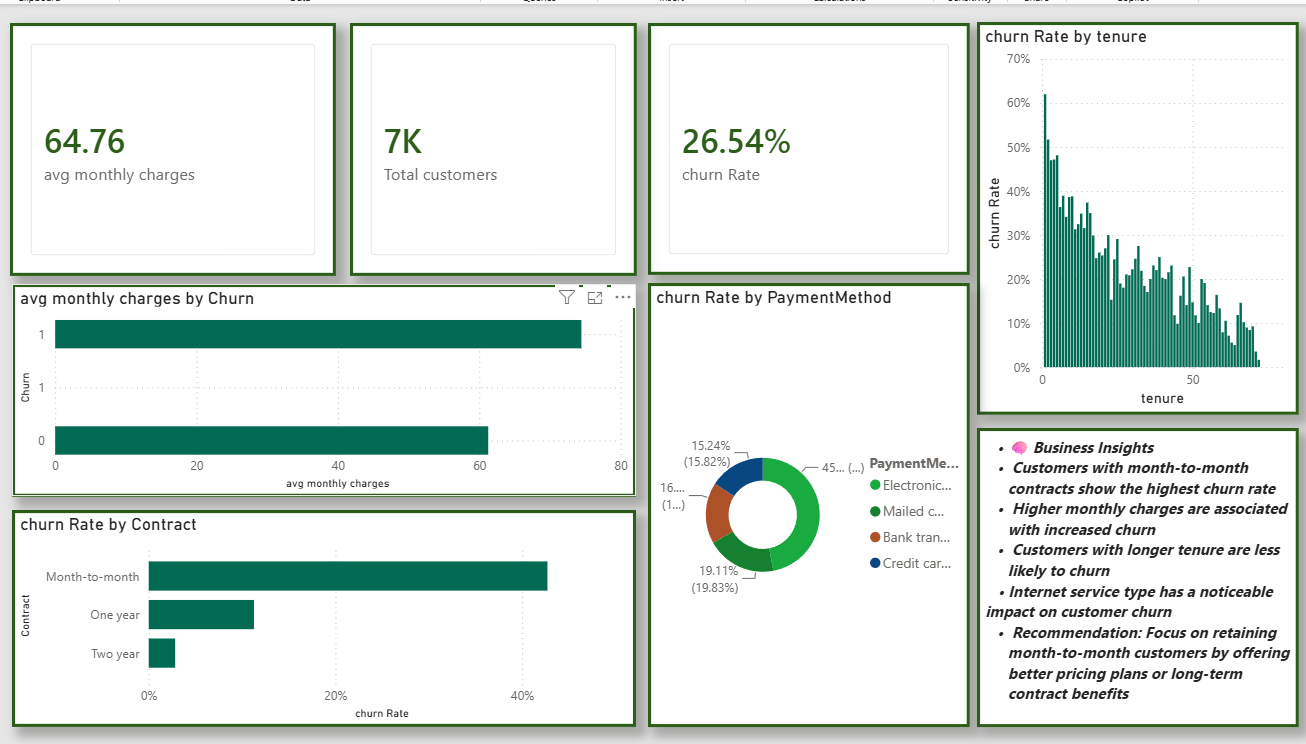

The page's visual inventory and layout, read from the dashboard file:
{"tool":"powerbi","page":{"name":"Page 1","canvas":[1280,720],"ordinal":0},"visuals":[{"type":"cardVisual","fields":{"Data":["WA_Fn-UseC_-Telco-Customer-Churn.churn Rate"]},"box":[630.3,18.5,313.2,245.1],"z":0},{"type":"cardVisual","fields":{"Data":["WA_Fn-UseC_-Telco-Customer-Churn.avg monthly charges"]},"box":[10,18,317,246],"z":1000},{"type":"cardVisual","fields":{"Data":["WA_Fn-UseC_-Telco-Customer-Churn.Total customers"]},"box":[340,18,279,246],"z":2000},{"type":"barChart","fields":{"Category":["WA_Fn-UseC_-Telco-Customer-Churn.Contract"],"Y":["WA_Fn-UseC_-Telco-Customer-Churn.churn Rate"]},"box":[12,492,607,211],"z":3000},{"type":"columnChart","fields":{"Category":["WA_Fn-UseC_-Telco-Customer-Churn.tenure"],"Y":["WA_Fn-UseC_-Telco-Customer-Churn.churn Rate"]},"box":[950.3,18,312.8,381.7],"z":4000},{"type":"clusteredBarChart","fields":{"Category":["WA_Fn-UseC_-Telco-Customer-Churn.Churn"],"Y":["WA_Fn-UseC_-Telco-Customer-Churn.avg monthly charges"]},"box":[12,272,607,207],"z":5000},{"type":"donutChart","fields":{"Category":["WA_Fn-UseC_-Telco-Customer-Churn.PaymentMethod"],"Y":["WA_Fn-UseC_-Telco-Customer-Churn.churn Rate"]},"box":[630.3,271.4,313.2,431.9],"z":6000},{"type":"textbox","box":[950.3,412.7,312.8,290.8],"z":7000}]}

Visuals, with their boxes in screenshot pixels (x1, y1, x2, y2):
cardVisual - WA_Fn-UseC_-Telco-Customer-Churn.churn Rate: [x1=655, y1=29, x2=970, y2=275]
cardVisual - WA_Fn-UseC_-Telco-Customer-Churn.avg monthly charges: [x1=30, y1=28, x2=349, y2=276]
cardVisual - WA_Fn-UseC_-Telco-Customer-Churn.Total customers: [x1=363, y1=28, x2=643, y2=276]
barChart - WA_Fn-UseC_-Telco-Customer-Churn.Contract x WA_Fn-UseC_-Telco-Customer-Churn.churn Rate: [x1=32, y1=505, x2=643, y2=718]
columnChart - WA_Fn-UseC_-Telco-Customer-Churn.tenure x WA_Fn-UseC_-Telco-Customer-Churn.churn Rate: [x1=977, y1=28, x2=1291, y2=412]
clusteredBarChart - WA_Fn-UseC_-Telco-Customer-Churn.Churn x WA_Fn-UseC_-Telco-Customer-Churn.avg monthly charges: [x1=32, y1=284, x2=643, y2=492]
donutChart - WA_Fn-UseC_-Telco-Customer-Churn.PaymentMethod x WA_Fn-UseC_-Telco-Customer-Churn.churn Rate: [x1=655, y1=283, x2=970, y2=718]
textbox: [x1=977, y1=425, x2=1291, y2=718]
